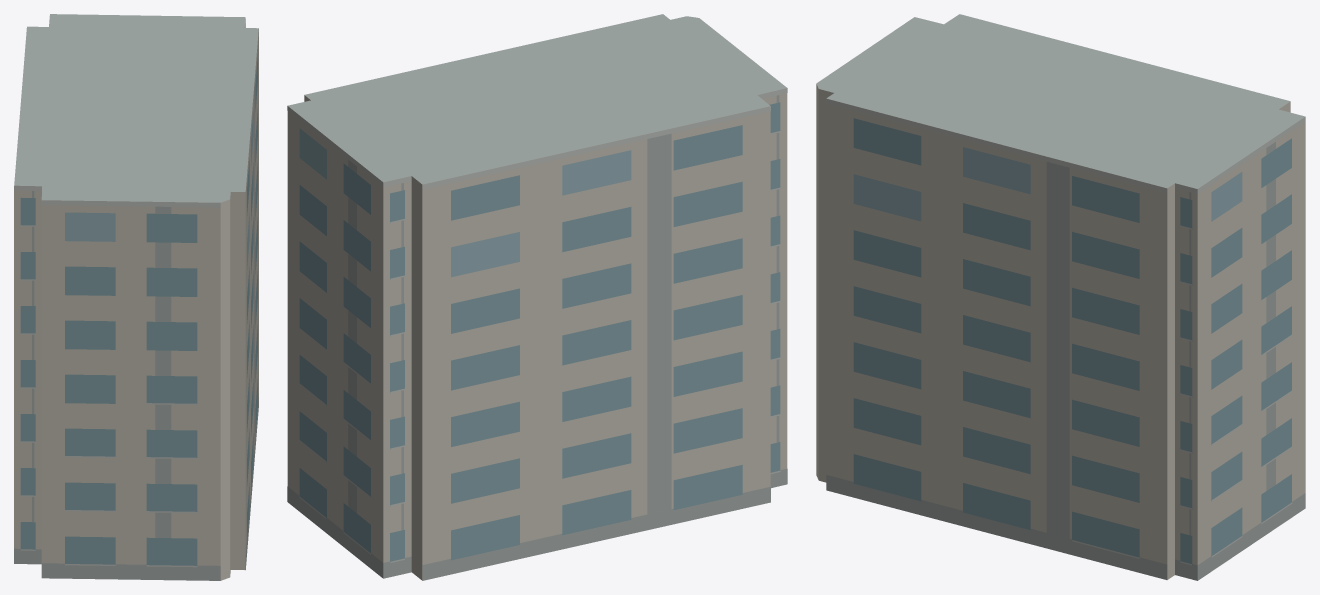
The model's file is survey-upis-32986797.glb.
The picture shows the model from 3 angles, left to right: view 1: azimuth 30°, elevation 25°; view 2: azimuth 150°, elevation 25°; view 3: azimuth 270°, elevation 25°; orthographic projection. The views are drawn at different scales.
Parts seen in each view (by area): view 1: survey-upis-32986797.tmp; view 2: survey-upis-32986797.tmp; view 3: survey-upis-32986797.tmp.
Boxes of the visible parts, x1,y1,x2,y2 form: survey-upis-32986797.tmp: (14,14,258,580); survey-upis-32986797.tmp: (287,14,787,580); survey-upis-32986797.tmp: (816,14,1305,580).
Size of the model in its own units: 18.22 by 19 by 21.51.
